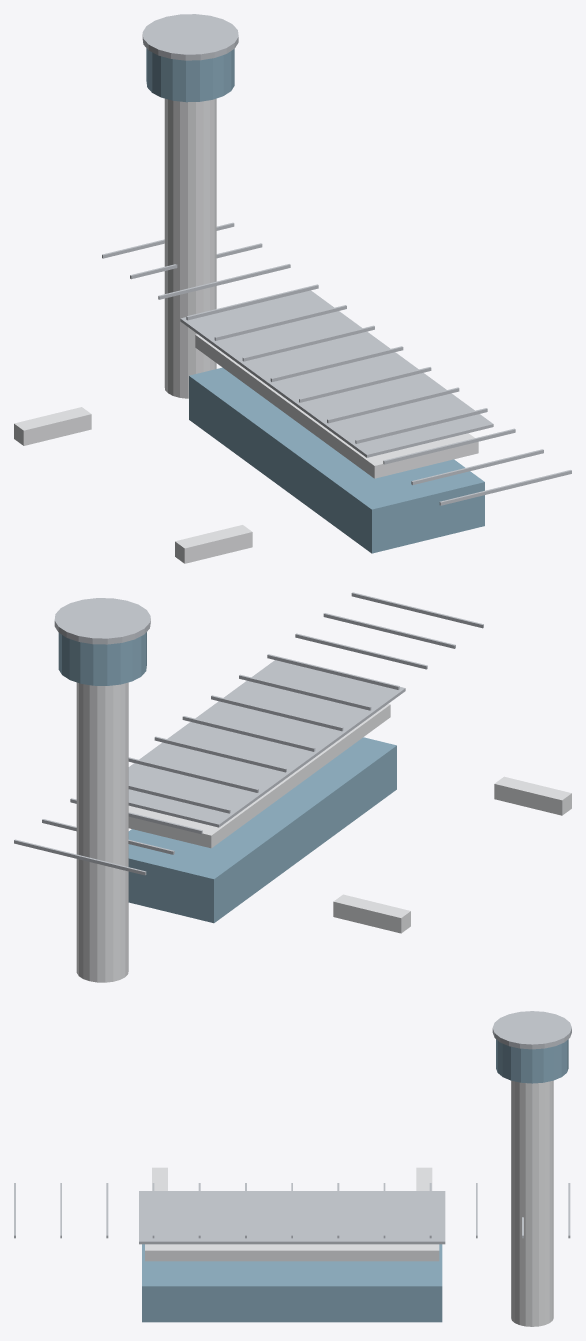
File: airport.glb
The picture shows the model from 3 angles, top to bottom: view 1: azimuth 30°, elevation 25°; view 2: azimuth 150°, elevation 25°; view 3: azimuth 270°, elevation 25°; orthographic projection. The views are drawn at different scales.
Parts seen in each view (by area): view 1: base, roof, tower_shaft, mid, tower_cab, tower_cap, bridge.001, bridge; view 2: roof, base, tower_shaft, mid, tower_cab, tower_cap, bridge.001, bridge, rib.005, rib.006, rib.003, rib.001 (+7 smaller); view 3: base, roof, tower_shaft, mid, tower_cap, tower_cab.
Part boxes in pixels (x1=…): base: x1=189, y1=367, x2=484, y2=553; roof: x1=180, y1=290, x2=493, y2=457; tower_shaft: x1=164, y1=98, x2=216, y2=398; mid: x1=195, y1=334, x2=478, y2=478; tower_cab: x1=146, y1=48, x2=234, y2=102; tower_cap: x1=142, y1=14, x2=238, y2=60; bridge.001: x1=14, y1=407, x2=91, y2=445; bridge: x1=175, y1=525, x2=252, y2=563; roof: x1=128, y1=660, x2=405, y2=827; base: x1=128, y1=737, x2=396, y2=923; tower_shaft: x1=76, y1=682, x2=128, y2=982; mid: x1=128, y1=704, x2=390, y2=848; tower_cab: x1=58, y1=632, x2=146, y2=685; tower_cap: x1=54, y1=598, x2=150, y2=644; bridge.001: x1=333, y1=894, x2=410, y2=933; bridge: x1=494, y1=776, x2=571, y2=815; rib.005: x1=211, y1=695, x2=343, y2=731; rib.006: x1=182, y1=716, x2=315, y2=751; rib.003: x1=267, y1=654, x2=399, y2=689; rib.001: x1=323, y1=613, x2=455, y2=648; base: x1=142, y1=1244, x2=442, y2=1322; roof: x1=139, y1=1191, x2=445, y2=1244; tower_shaft: x1=511, y1=1080, x2=553, y2=1326; mid: x1=145, y1=1244, x2=439, y2=1261; tower_cap: x1=492, y1=1011, x2=571, y2=1049; tower_cab: x1=496, y1=1039, x2=568, y2=1083.
Size of the model in its own units: 26.8 by 29.85 by 52.03.
